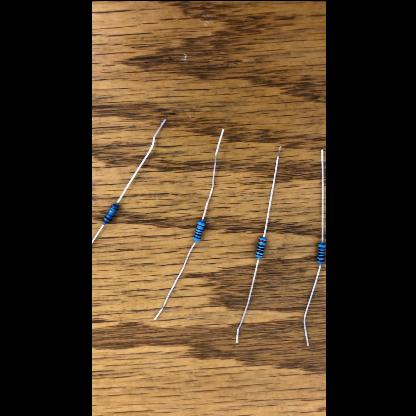resistor: (102, 203, 118, 223), (191, 220, 205, 240), (254, 236, 266, 258), (316, 241, 324, 263)
wire: (115, 118, 165, 202), (152, 240, 196, 320), (200, 128, 223, 220), (235, 258, 259, 342), (262, 146, 280, 236), (302, 263, 320, 344), (90, 223, 104, 244), (320, 149, 323, 241)
